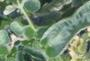Tomato mold leaf: (33, 13, 85, 60), (10, 0, 55, 14)
